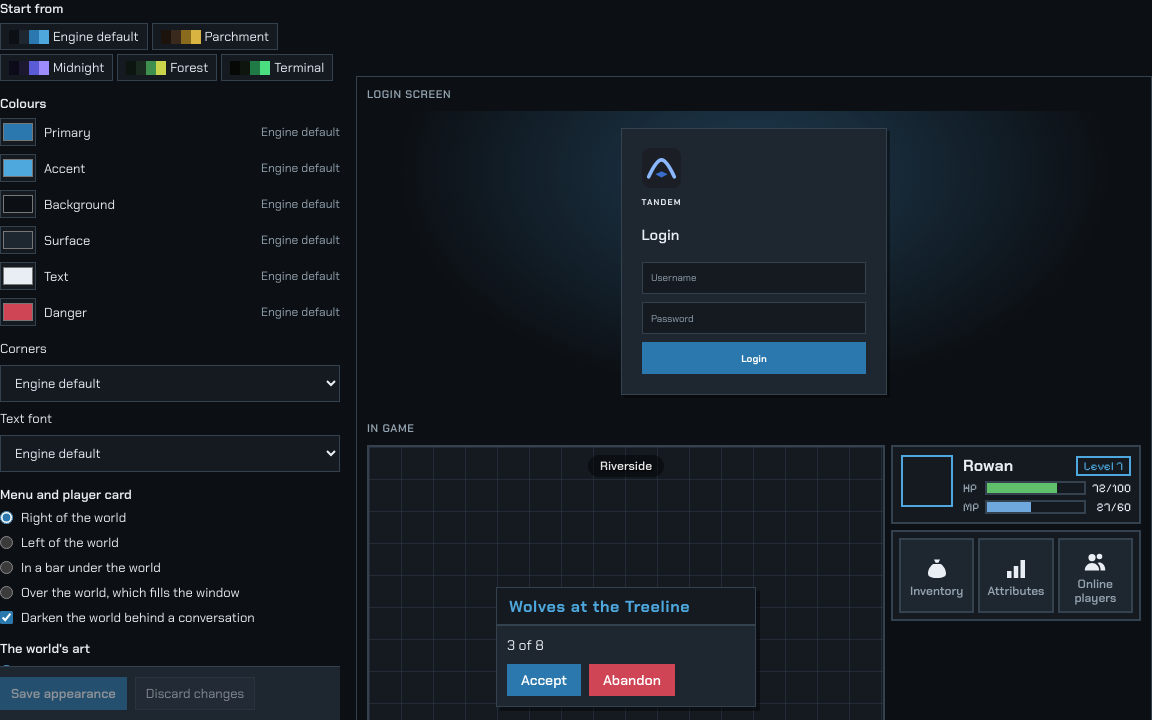
AppearancePanel › previews a starting point at once and saves it when asked
The image size is (1152, 720).
Check: the button "Save appearance" is disabled, box [0,677,127,710]
Click the button "Parchment" at (215, 36), box [152,23,278,50]
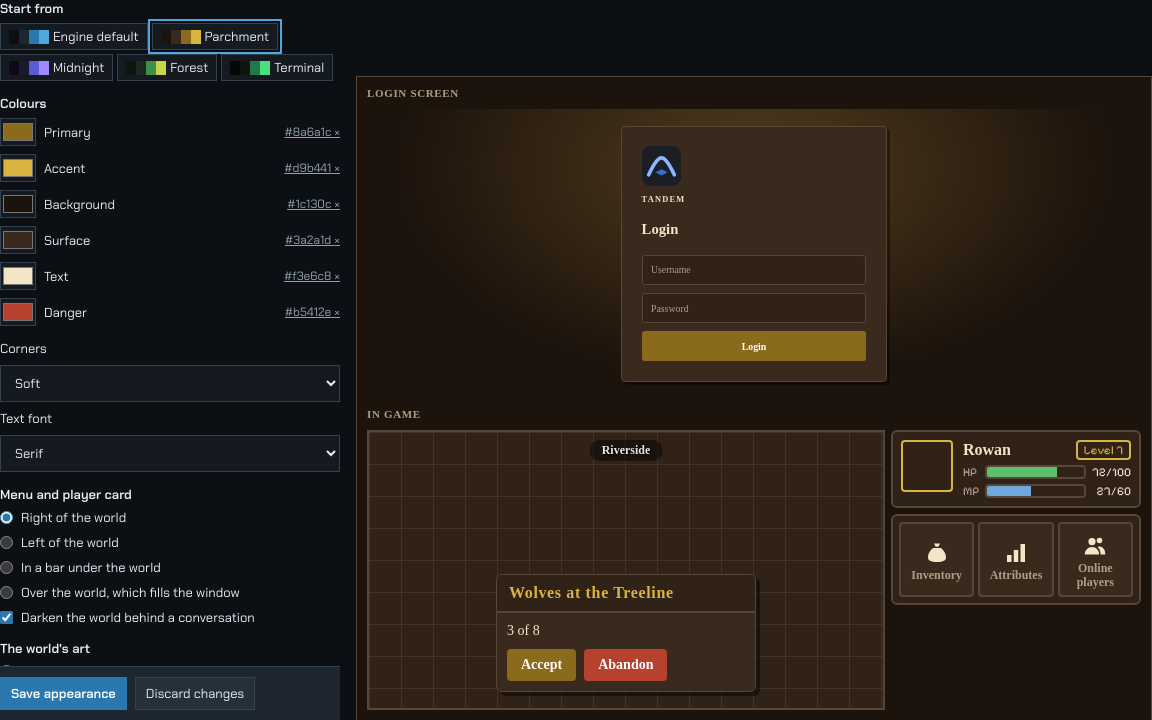
Click the button "Save appearance" at (63, 694), box [0,677,127,710]
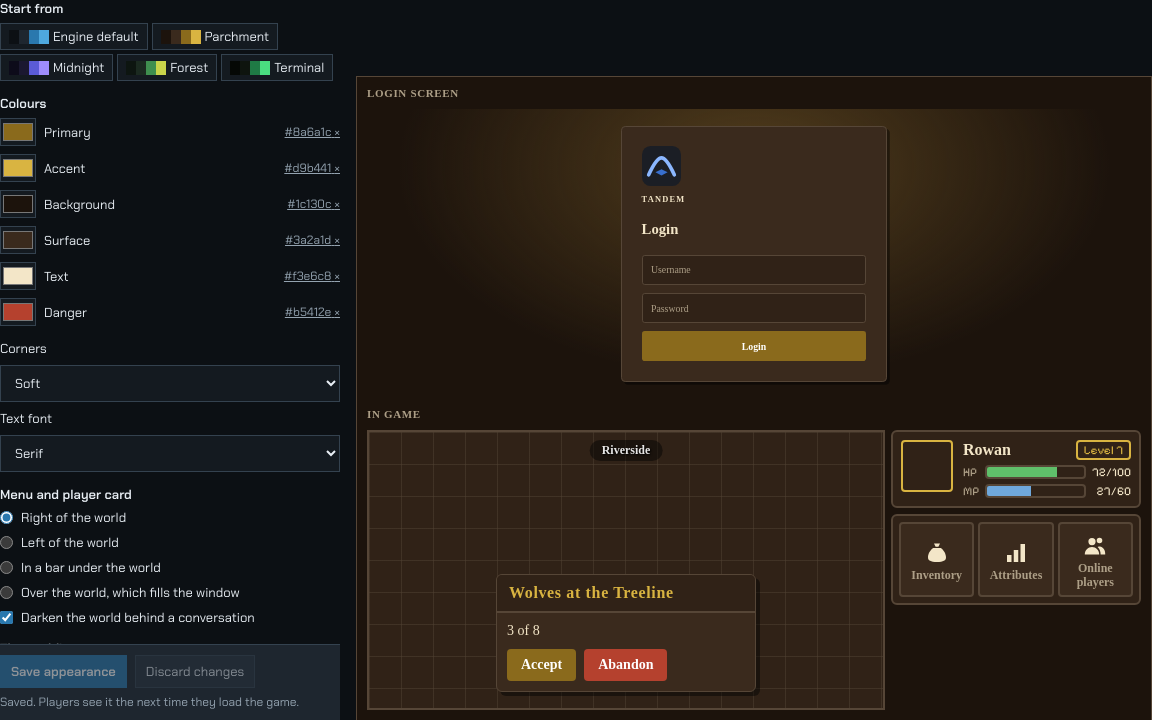
Check: the message shows "Saved.", box [0,694,299,710]
Check: the button "Save appearance" is disabled, box [0,655,127,688]
